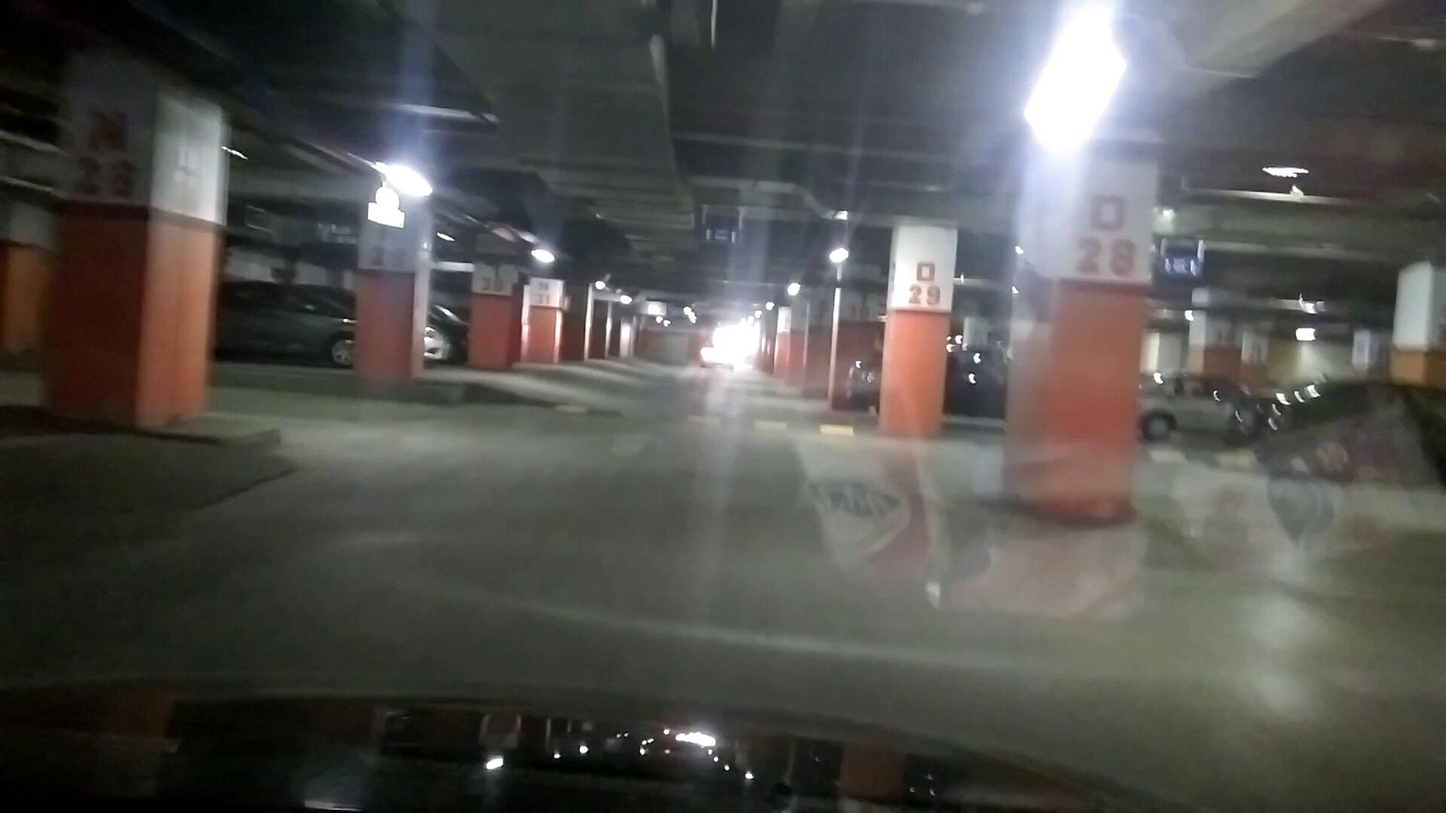Bump: (523, 395, 849, 438)
